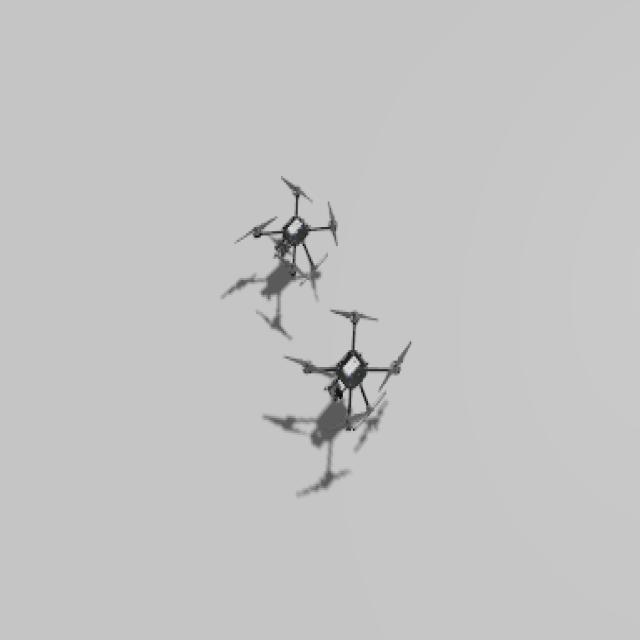drone: (285, 305, 420, 435), (233, 168, 346, 287)
